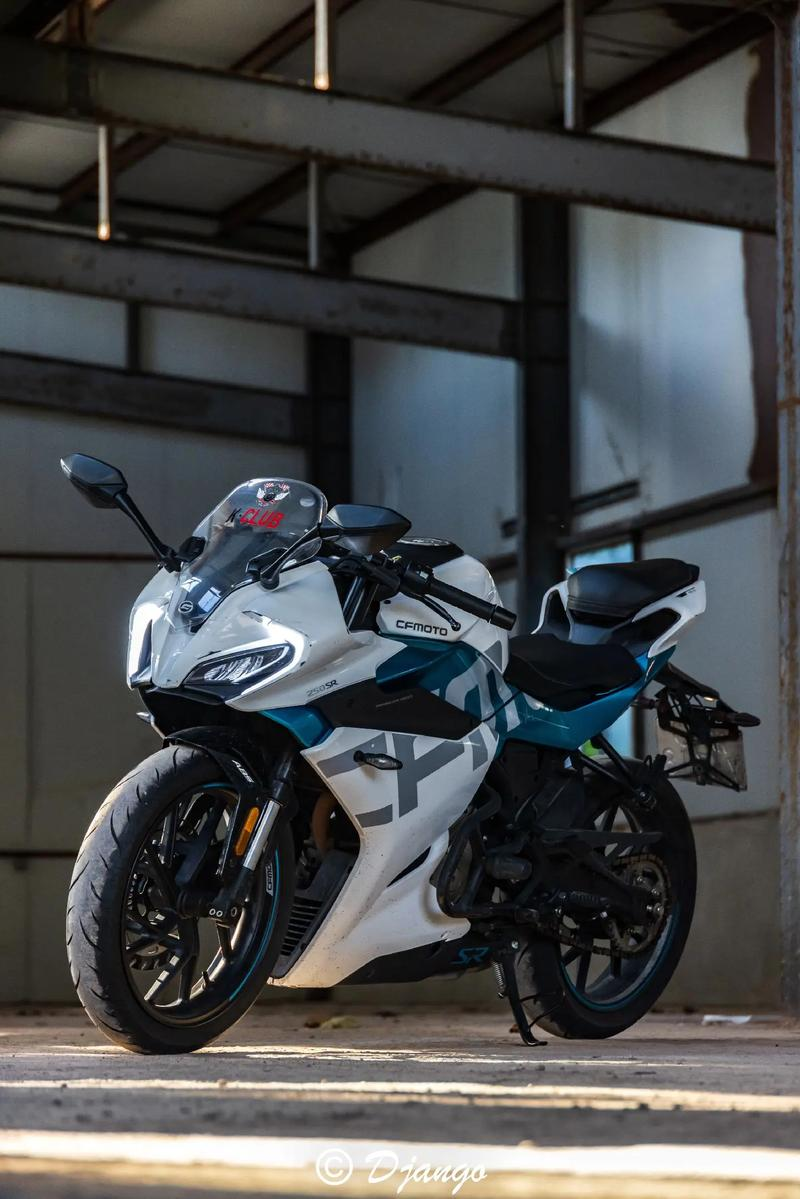摩托车: (22, 415, 768, 1057)
